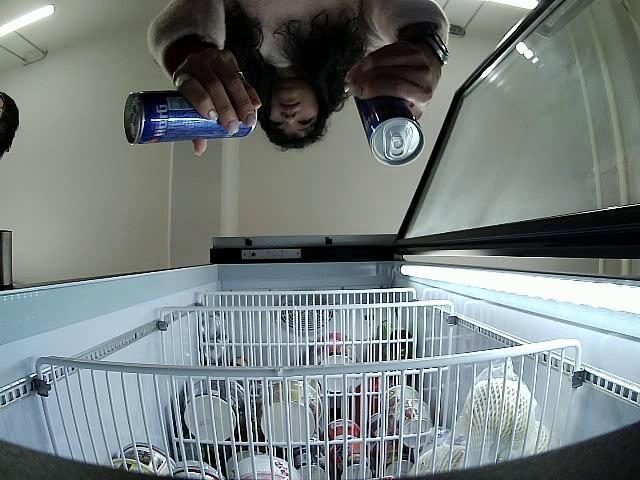16_hot6: (125, 88, 258, 146), (354, 95, 425, 166)
